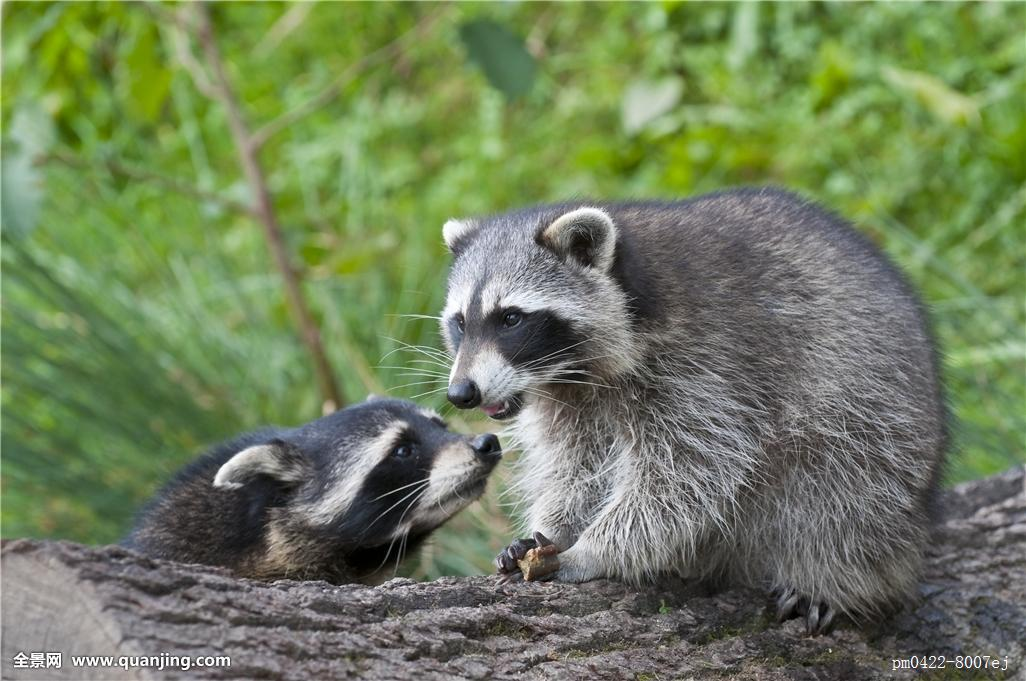raccoon: (425, 181, 977, 640), (103, 384, 505, 603)
